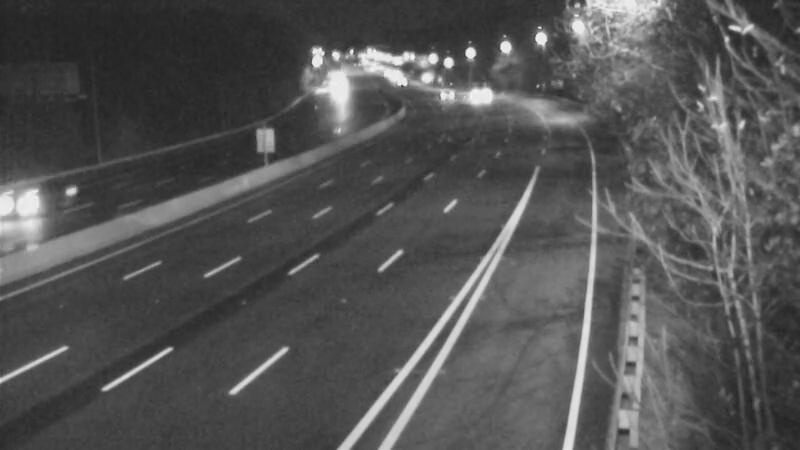vehicle: (1, 161, 81, 241), (416, 70, 466, 120), (449, 69, 499, 119)
